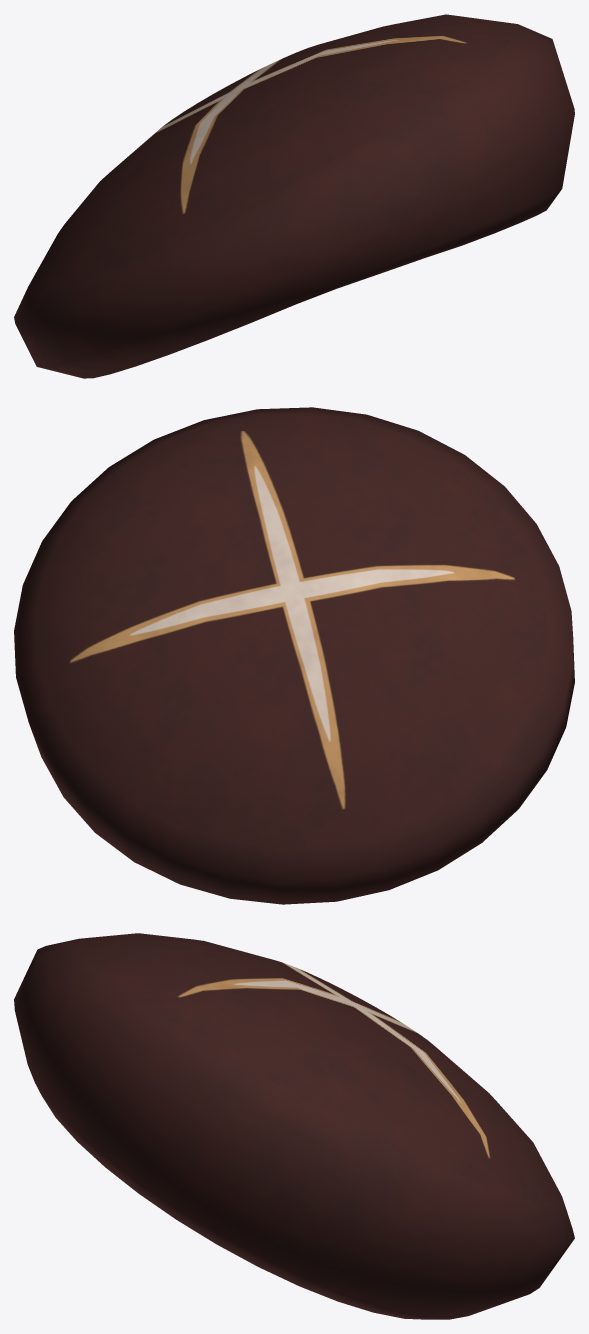
File: Beret.fbx
The picture shows the model from 3 angles, top to bottom: view 1: azimuth 30°, elevation 25°; view 2: azimuth 150°, elevation 25°; view 3: azimuth 270°, elevation 25°; orthographic projection. The views are drawn at different scales.
Parts seen in each view (by area): view 1: Beret; view 2: Beret; view 3: Beret.
Part boxes in pixels (x1,y1,x2,y2): Beret: [14, 14, 574, 378]; Beret: [14, 407, 574, 904]; Beret: [14, 933, 574, 1319].
Size of the model in its own units: 24.94 by 16.58 by 23.57.
